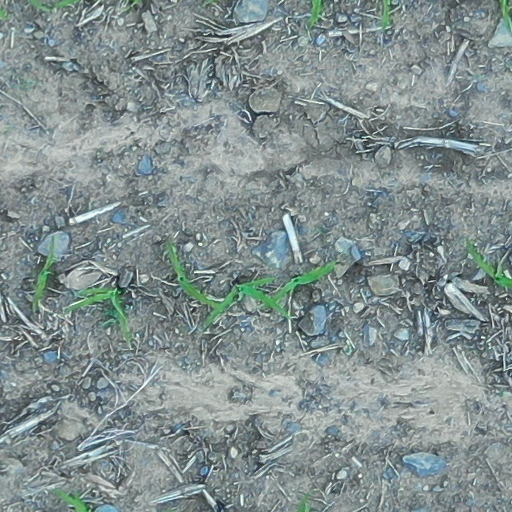planta: (166, 243, 225, 311), (207, 276, 287, 324), (69, 286, 131, 340), (263, 262, 334, 308), (34, 237, 54, 302)
